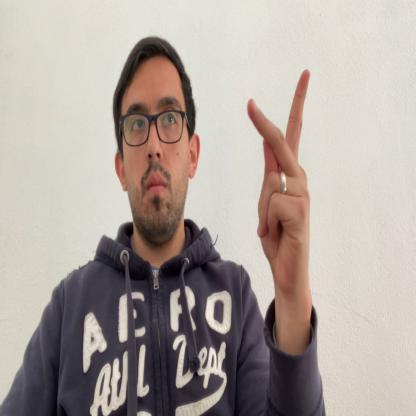P: (246, 68, 312, 300)
